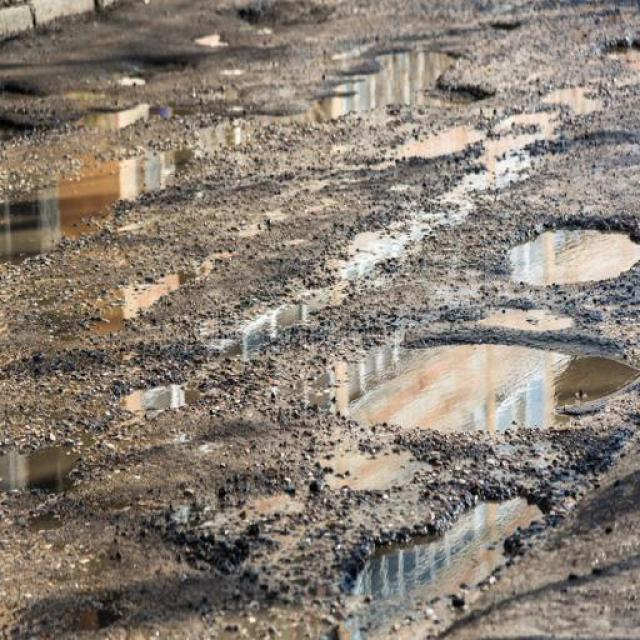puddle: (332, 312, 636, 454), (9, 143, 174, 282), (354, 528, 516, 594), (507, 208, 627, 288), (362, 35, 453, 140)
